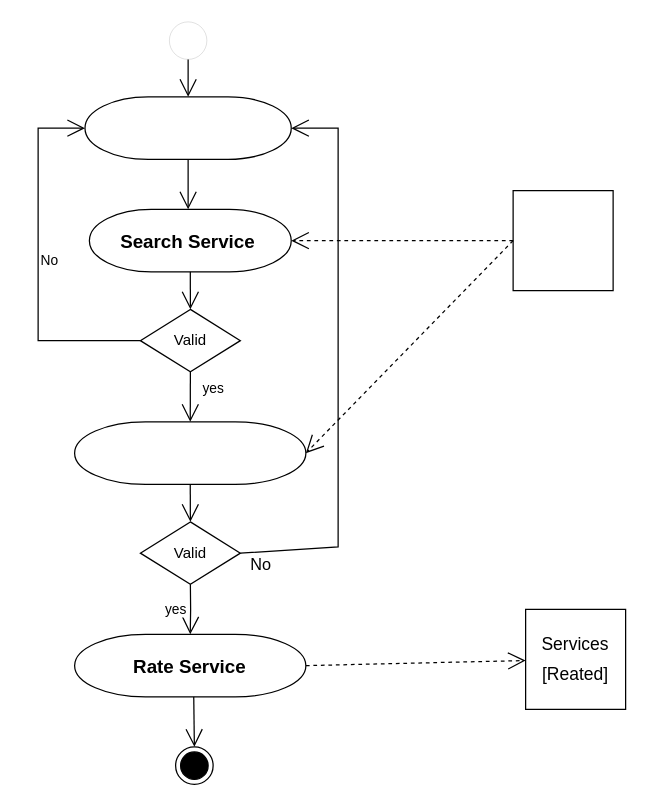
Some shapes in this 648 by 806 pixel diagram are drawn without their labels. Each missing label, with the centre of its shape:
"Enter Service ID" goes at [187,127].
"Search service appointment" goes at [189,452].
"Services [Confirmed]" goes at [562,240].
